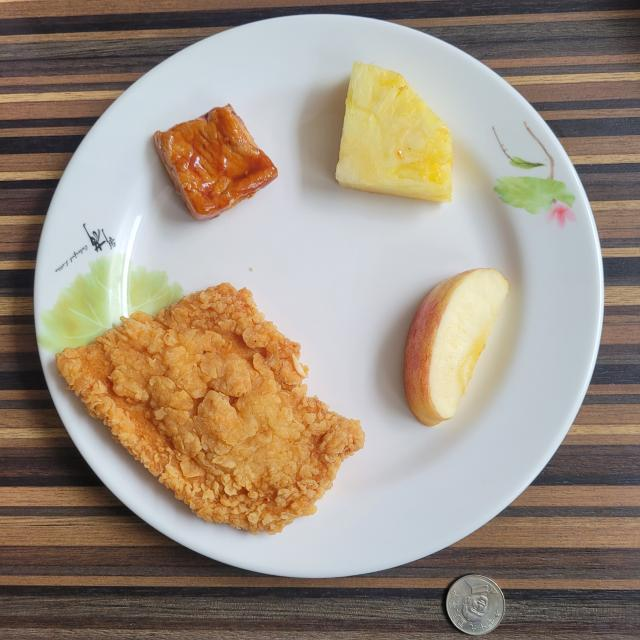apple -sliced-: (404, 269, 509, 426)
coin: (446, 575, 505, 635)
creamy tofu: (154, 104, 278, 220)
fried chicken cutlet: (58, 285, 364, 532)
pineapple: (336, 61, 452, 201)
